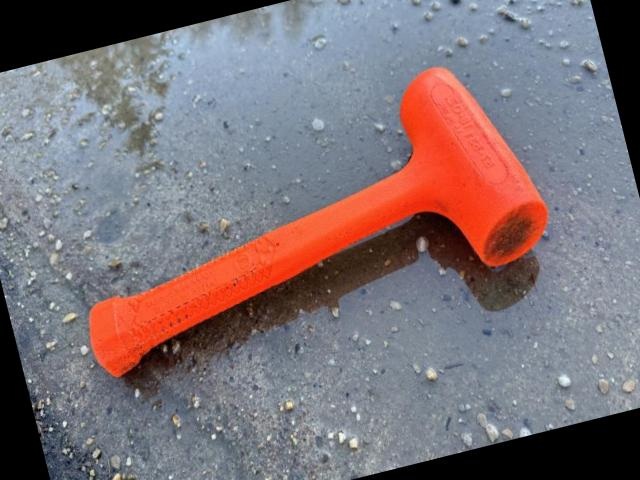hammer: (43, 48, 560, 380)
